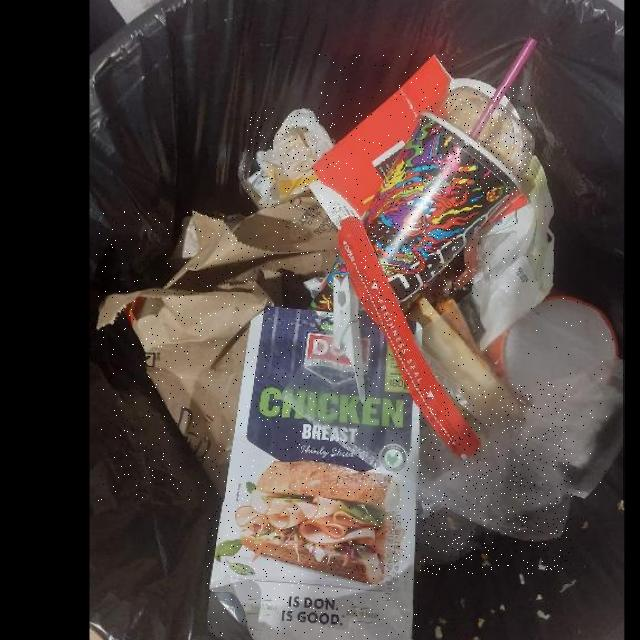paper: (96, 211, 340, 502), (361, 107, 525, 320), (313, 55, 454, 222), (473, 157, 556, 350), (248, 109, 335, 211)
plastic: (413, 294, 624, 500), (418, 384, 573, 575), (420, 86, 533, 195)
wrapper: (208, 308, 420, 639)
